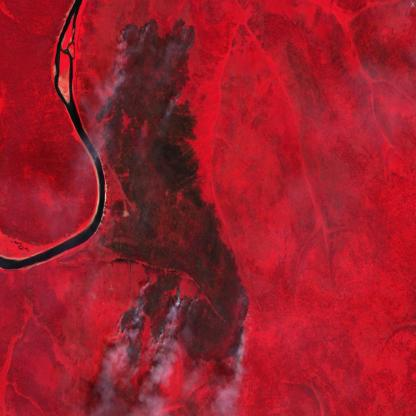fire: (91, 6, 256, 378)
